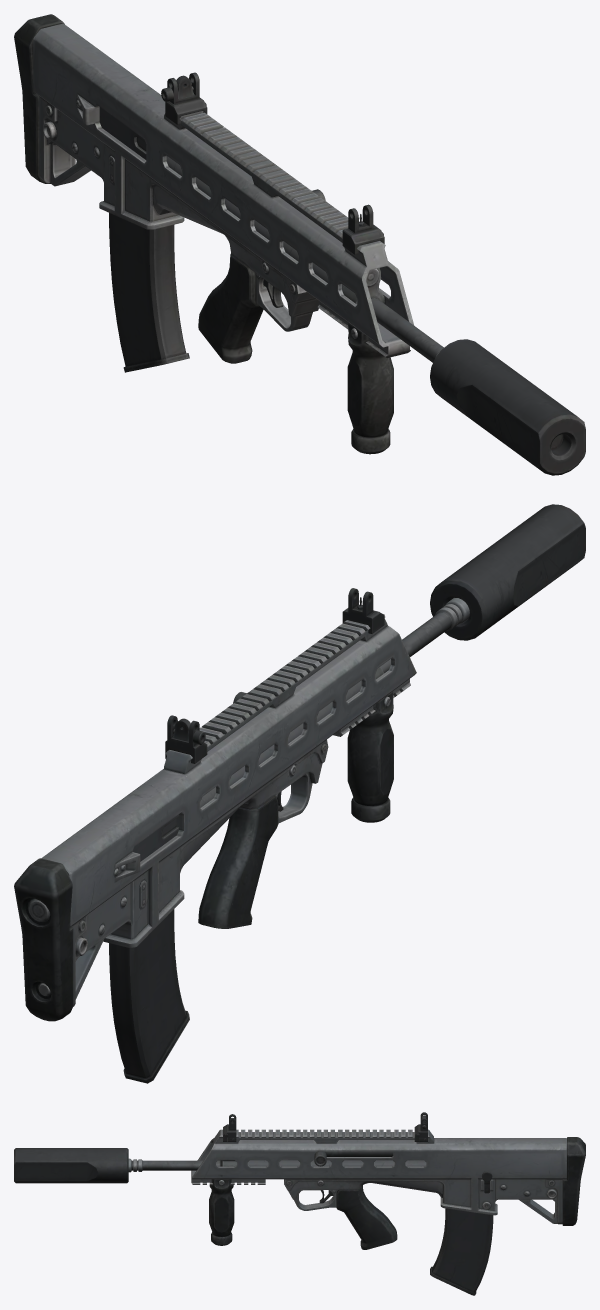
File: bullpup.glb
3 renders of one model, top to bottom at view 1: azimuth 30°, elevation 25°; view 2: azimuth 150°, elevation 25°; view 3: azimuth 270°, elevation 25°, orthographic. The views are drawn at different scales.
Visible parts, largest first — view 1: base, supressor, mag, foregrip, bolt; view 2: base, supressor, mag, foregrip, bolt; view 3: base, supressor, mag, foregrip, bolt.
Boxes of the visible parts, x1,y1,x2,y2 form: base: (14, 14, 443, 363); supressor: (430, 339, 585, 475); mag: (109, 213, 189, 372); foregrip: (347, 322, 393, 454); bolt: (99, 107, 325, 200); base: (14, 588, 469, 1021); supressor: (430, 504, 585, 640); mag: (109, 909, 189, 1083); foregrip: (347, 691, 393, 822); bolt: (132, 692, 246, 861); base: (128, 1112, 585, 1249); supressor: (14, 1148, 128, 1183); mag: (430, 1208, 493, 1295); foregrip: (209, 1179, 234, 1245); bolt: (314, 1150, 393, 1166).
Size of the model in its own units: 10.87 by 48.65 by 142.
Materials: 1 (1 with a texture image).
